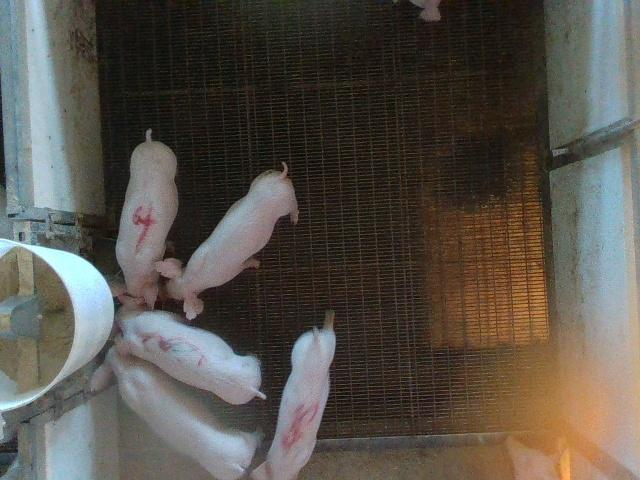pig-3: (116, 310, 265, 404)
pig-4: (116, 129, 179, 308)
pig-5: (251, 311, 336, 479)
